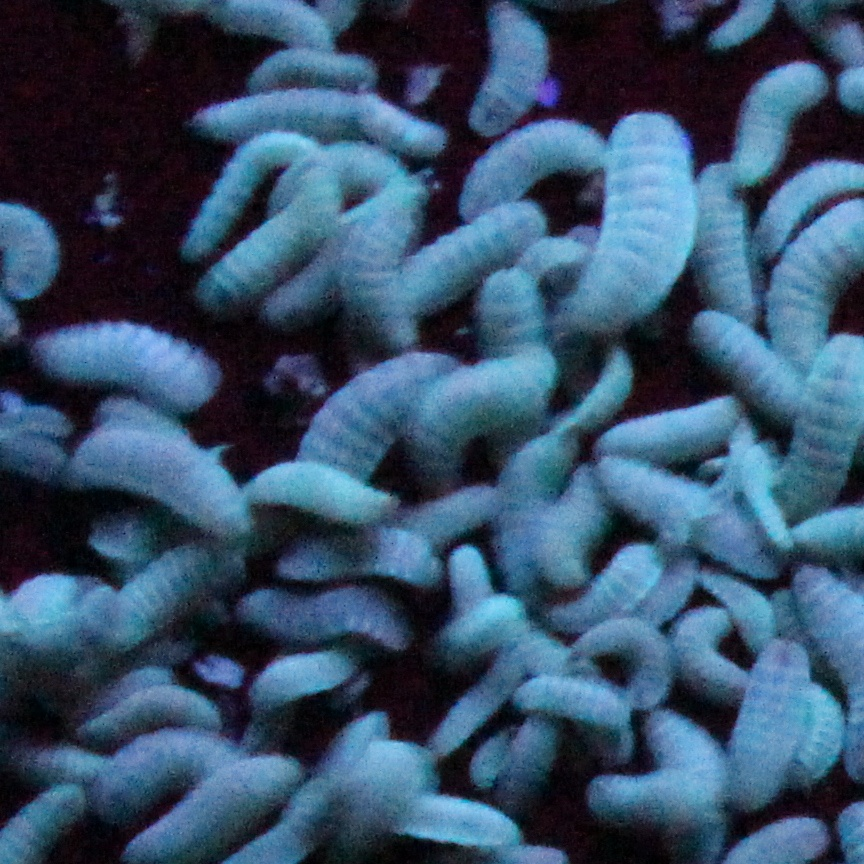larve: (569, 109, 690, 335), (410, 343, 550, 499), (72, 430, 253, 536), (200, 168, 340, 300), (174, 128, 305, 257), (391, 205, 545, 307), (36, 323, 228, 404), (105, 538, 243, 650), (722, 643, 810, 811), (457, 121, 605, 219), (726, 64, 826, 188), (686, 312, 805, 416), (581, 454, 714, 543), (241, 581, 412, 649), (540, 543, 664, 630), (469, 2, 548, 136), (240, 459, 397, 526), (700, 162, 759, 328), (595, 393, 743, 457), (276, 531, 450, 583), (78, 685, 226, 743), (186, 93, 362, 140), (571, 618, 666, 705), (383, 792, 528, 849), (253, 643, 362, 712), (441, 590, 526, 668), (583, 769, 712, 816), (702, 574, 781, 650), (562, 350, 633, 430), (357, 93, 447, 154), (240, 50, 376, 90), (555, 473, 600, 578), (802, 676, 843, 788)
